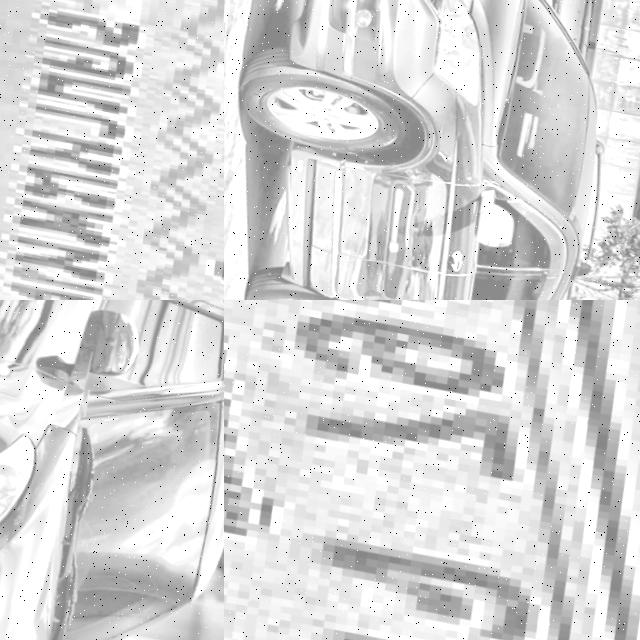license-plate: (224, 300, 640, 640), (0, 0, 224, 300)
